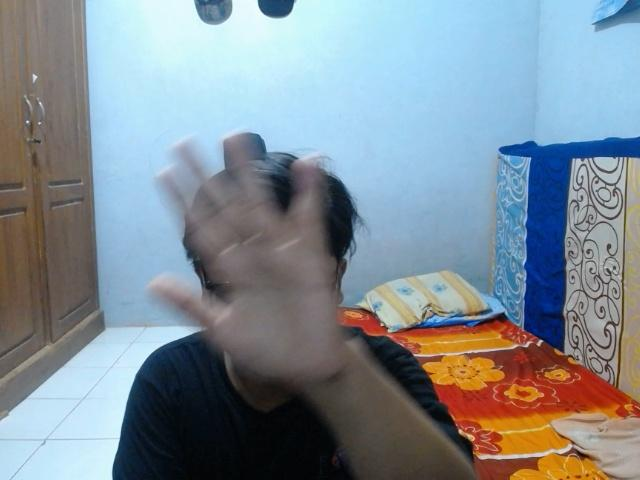Release: (140, 127, 351, 396)
